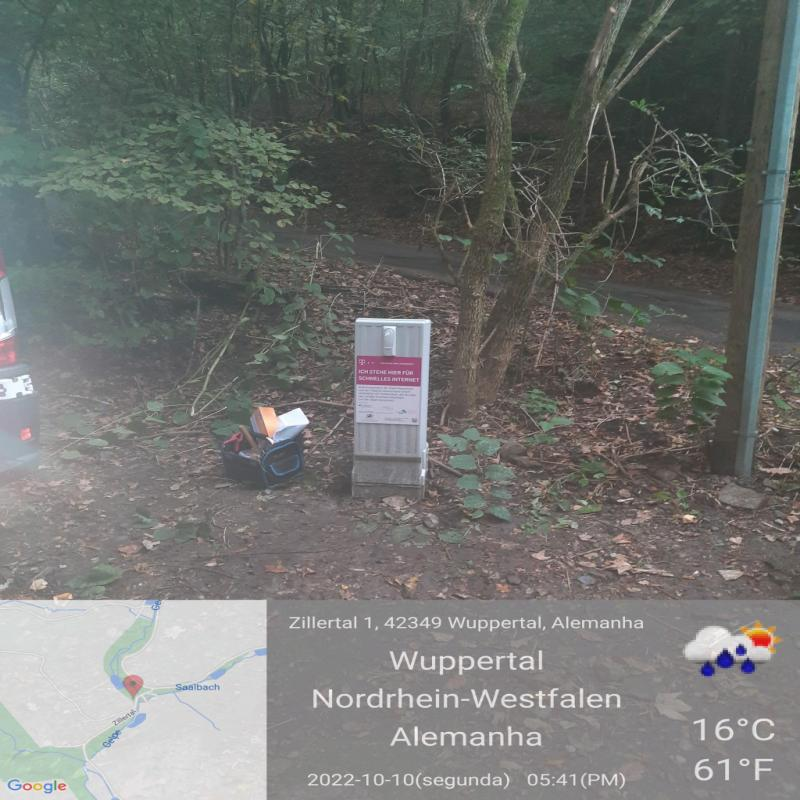NT-Gehause: (353, 318, 432, 490)
Steaker: (354, 355, 421, 424)
